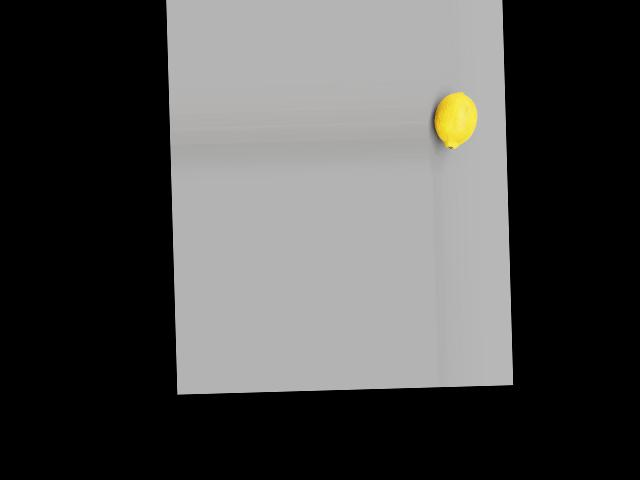lemon: (434, 90, 481, 149)
